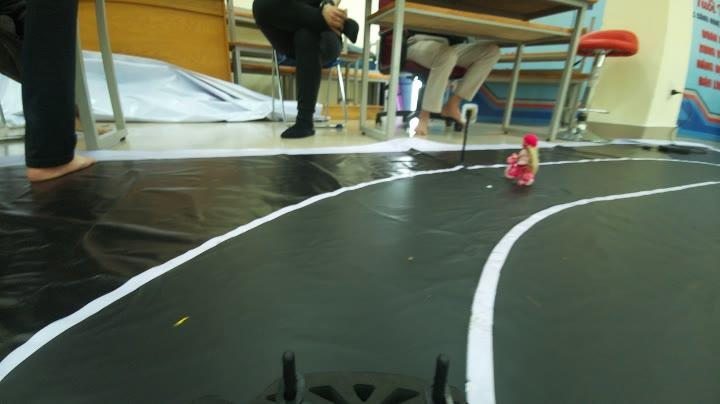pedestrian: (505, 132, 541, 196)
